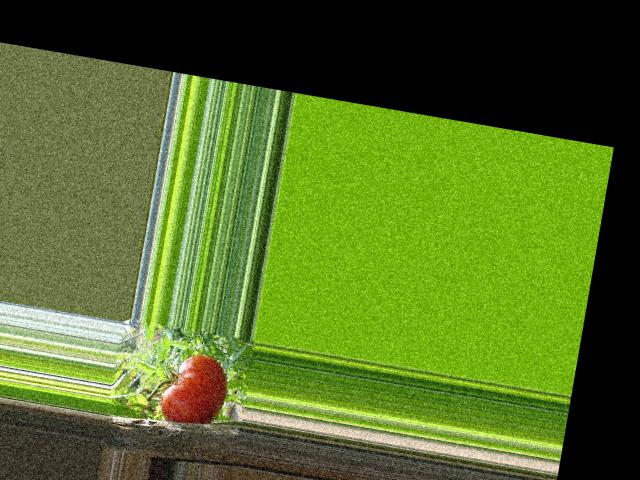tomato: (157, 348, 231, 430)
